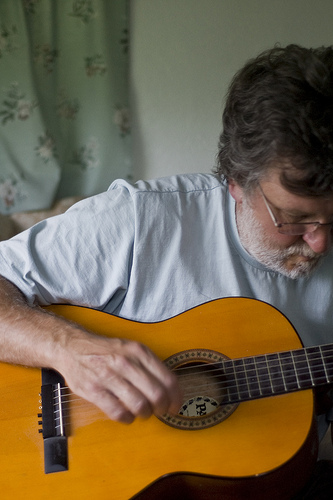guitar: (2, 295, 333, 500)
